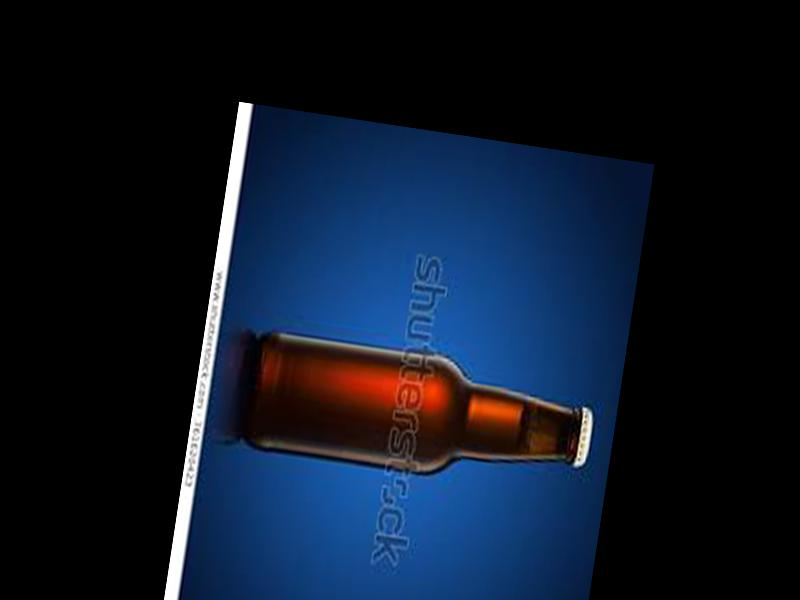Beer: (240, 328, 601, 500)
